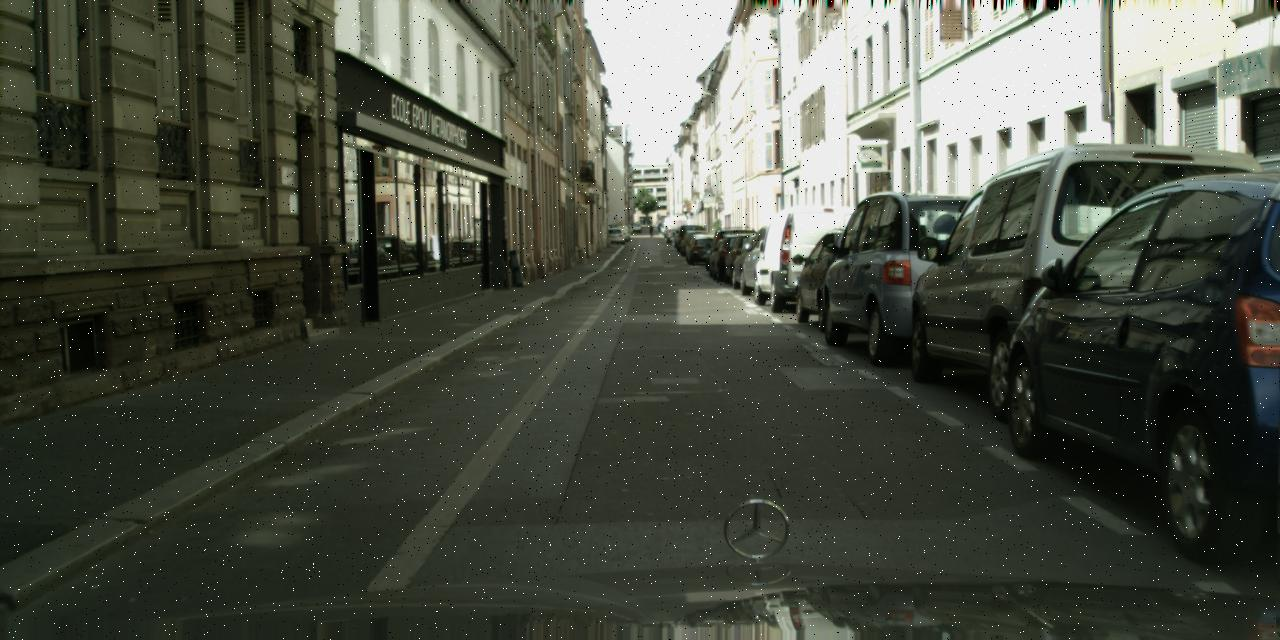ped: (648, 224, 653, 238), (662, 226, 667, 237)
